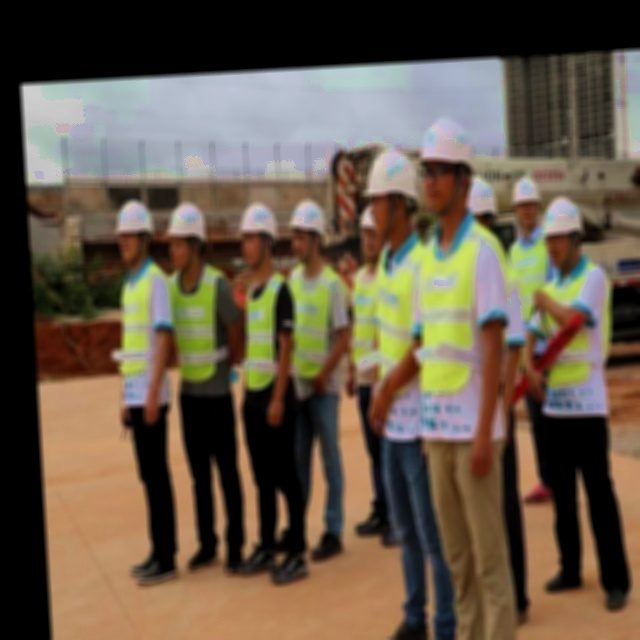Con_Casco: (542, 195, 583, 273), (166, 201, 209, 267), (239, 202, 280, 268), (288, 199, 329, 265)
Con_Chaleco: (414, 233, 513, 431), (171, 266, 238, 384), (112, 267, 175, 379), (291, 265, 348, 381), (240, 272, 294, 387), (346, 262, 385, 371)
